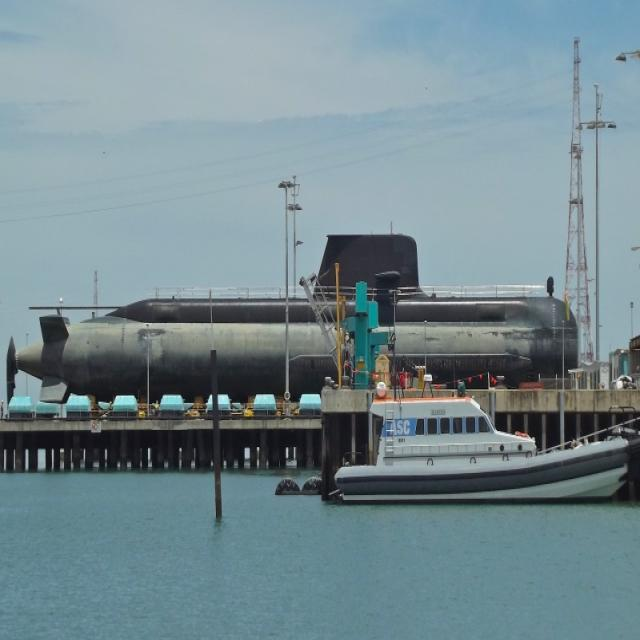submarine: (19, 237, 579, 374)
